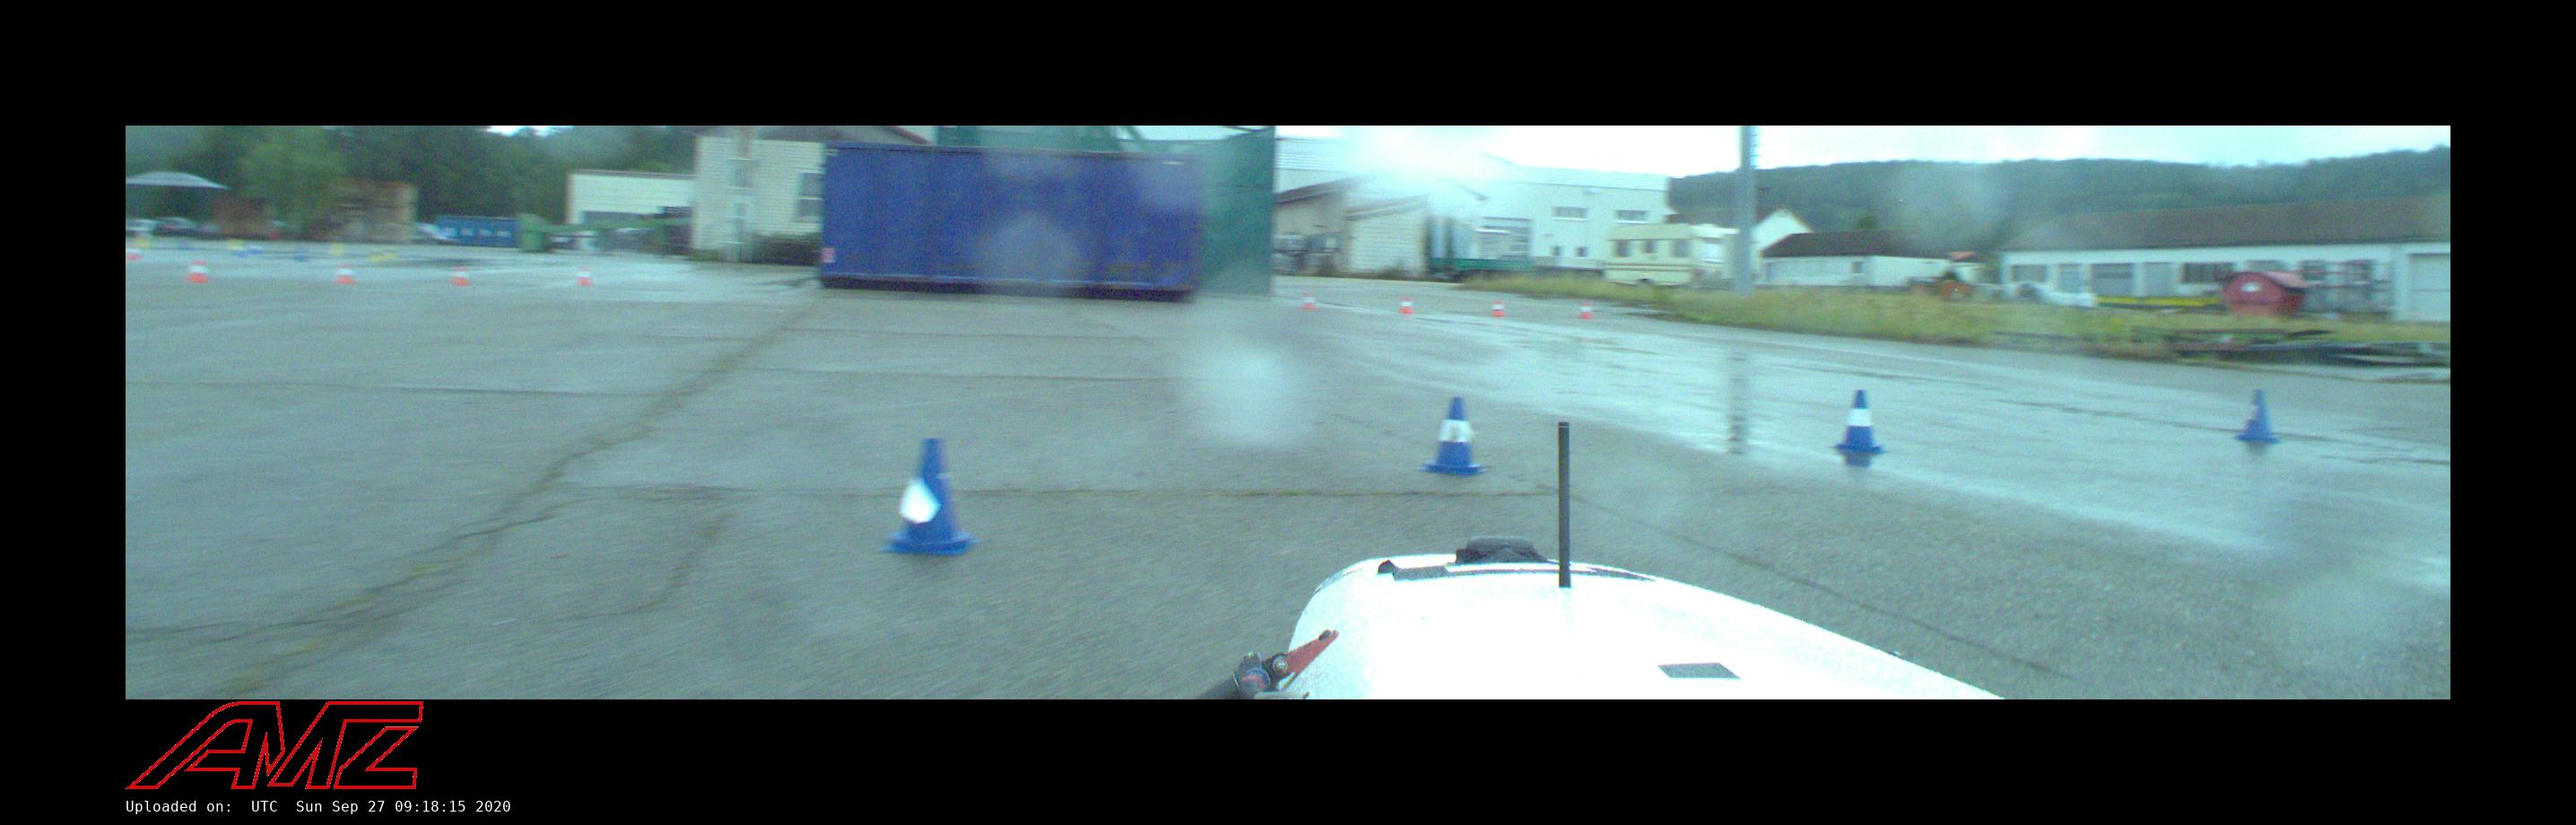blue_cone: (880, 438, 979, 557), (1417, 397, 1488, 475), (1832, 389, 1887, 452), (2234, 389, 2283, 443)
orange_cone: (187, 262, 208, 282), (335, 265, 357, 283), (1397, 295, 1417, 314), (452, 267, 471, 285), (576, 267, 593, 285), (1577, 302, 1594, 319), (1491, 300, 1506, 317), (1302, 293, 1317, 309)
